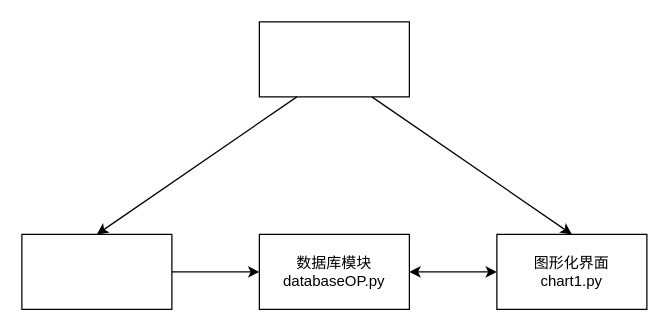
Some shapes in this 669 by 331 pixel diagram are drawn without their labels. The centre of each missing label's shape, as x and y in pixels:
主程序 main.py: (x=333, y=59)
爬虫模块 creeper.py: (x=96, y=271)
